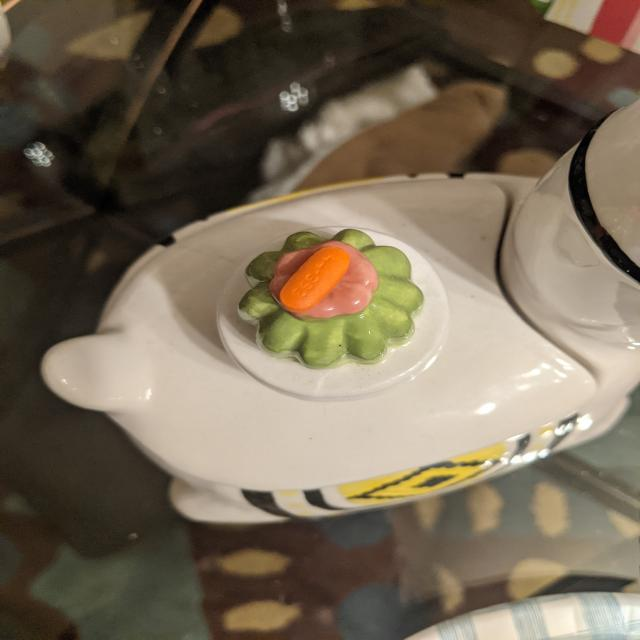non-organic waste: (278, 246, 351, 314)
